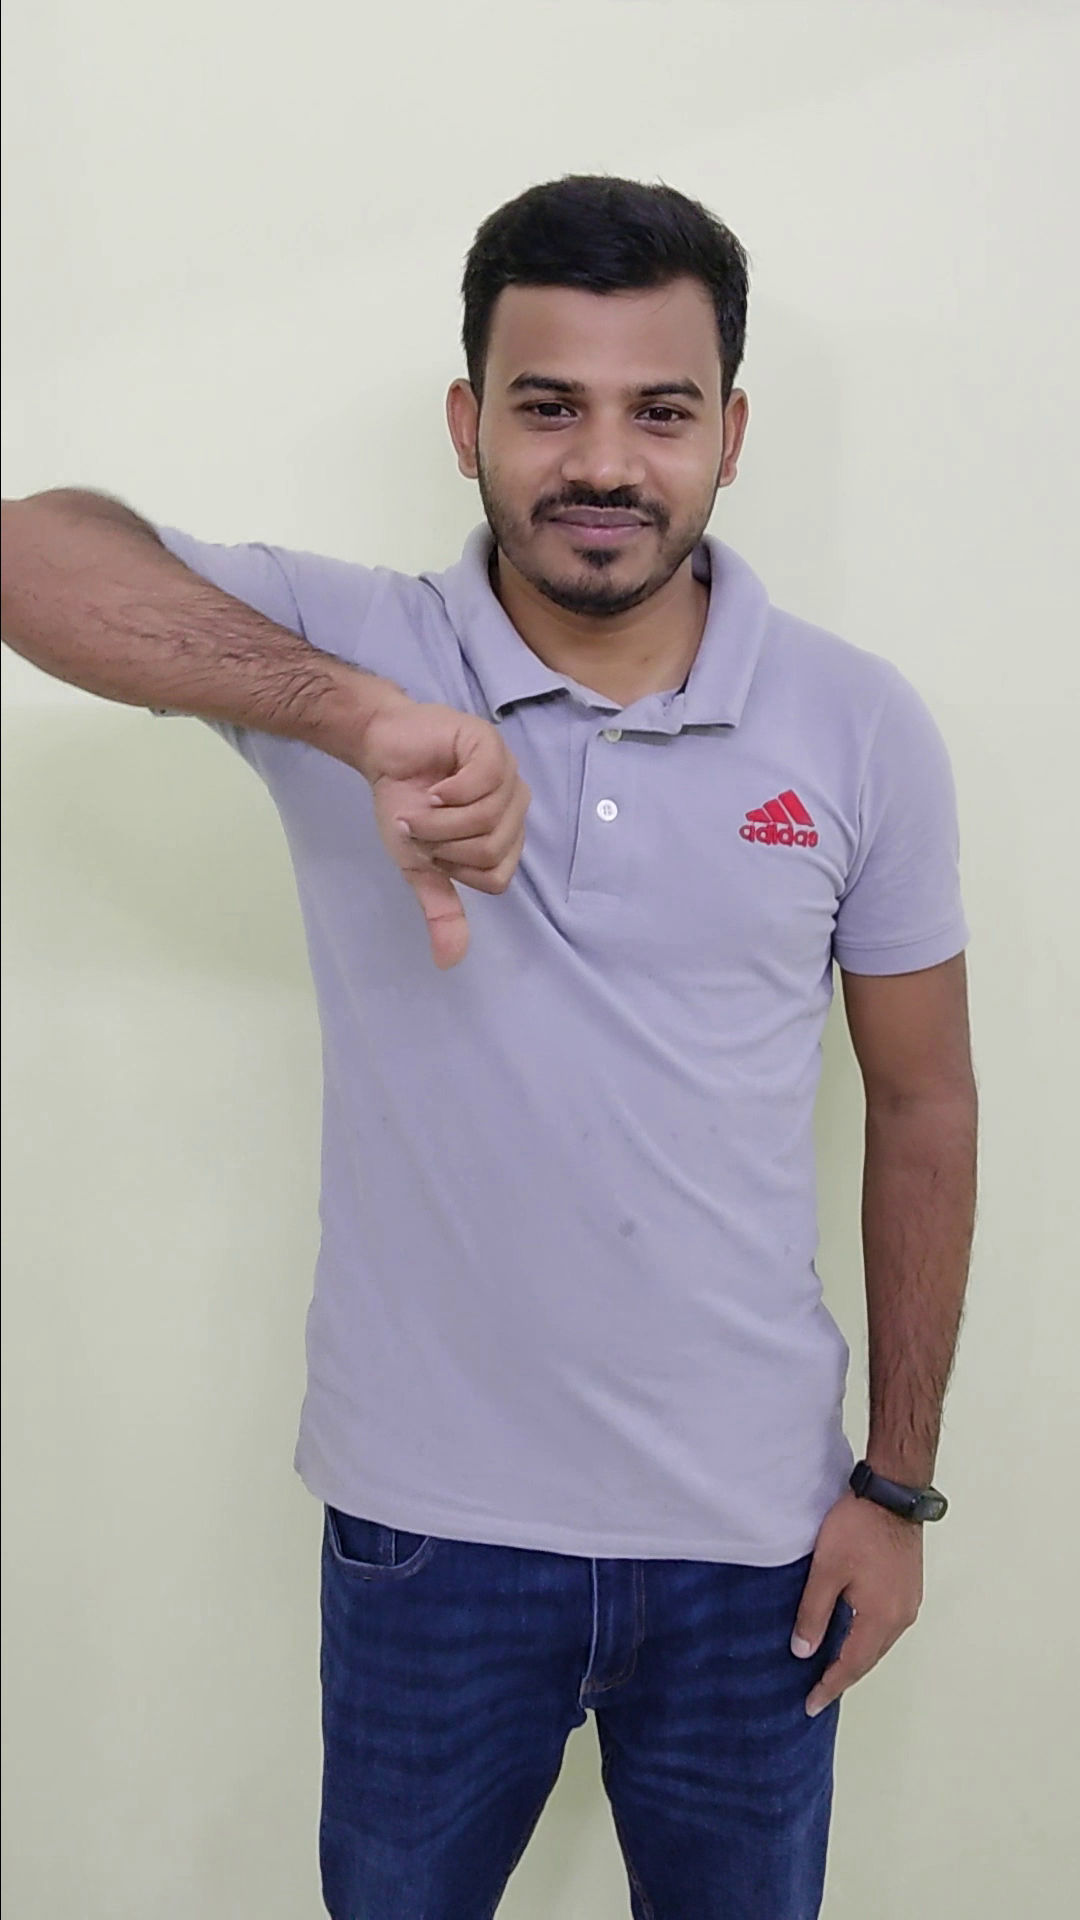Dislike: (347, 673, 541, 982)
None: (785, 1447, 957, 1727)
